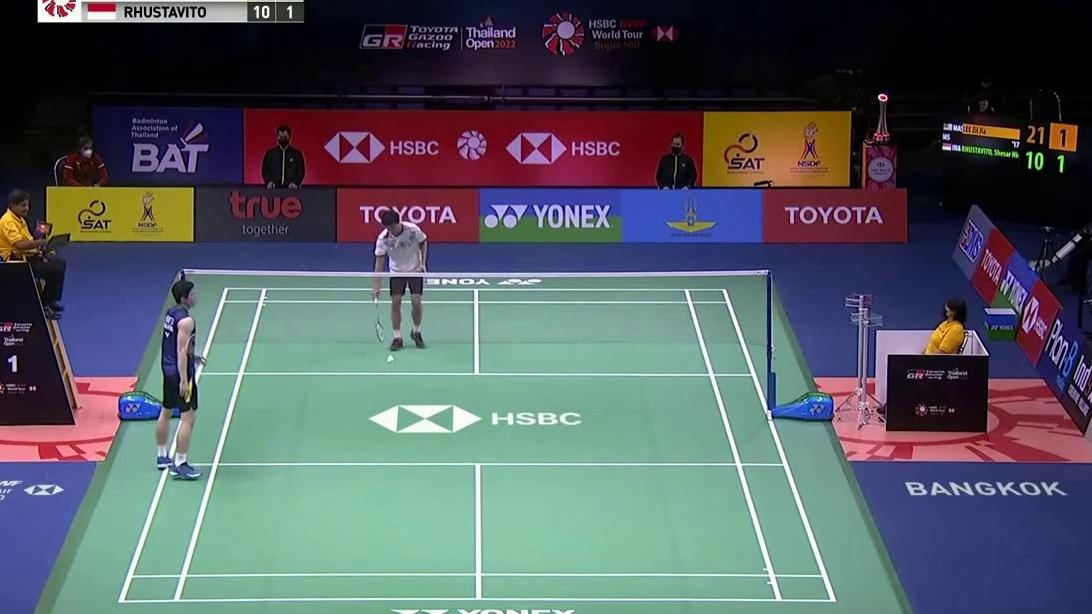racket: (184, 333, 203, 404), (371, 290, 385, 342)
shuttle: (387, 354, 395, 363)
